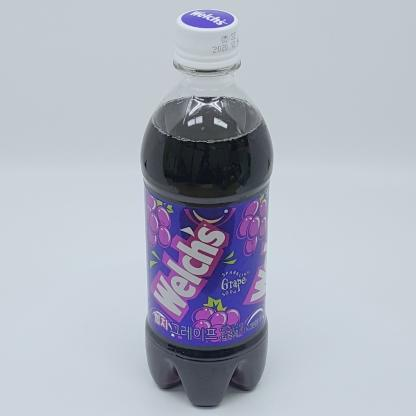-------500ml: (141, 8, 273, 407)
